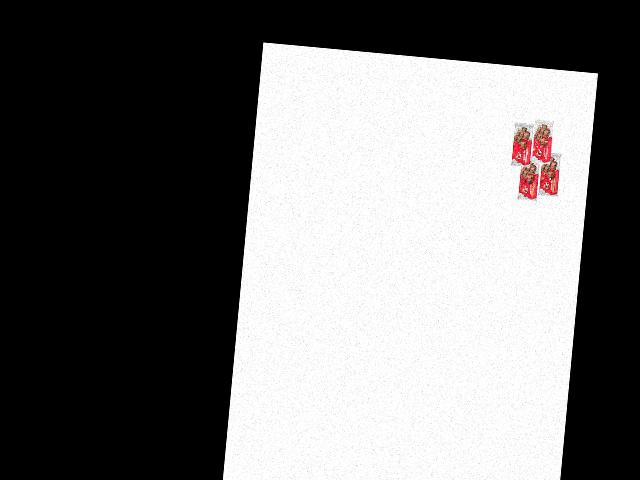chocolate: (534, 148, 564, 201)
